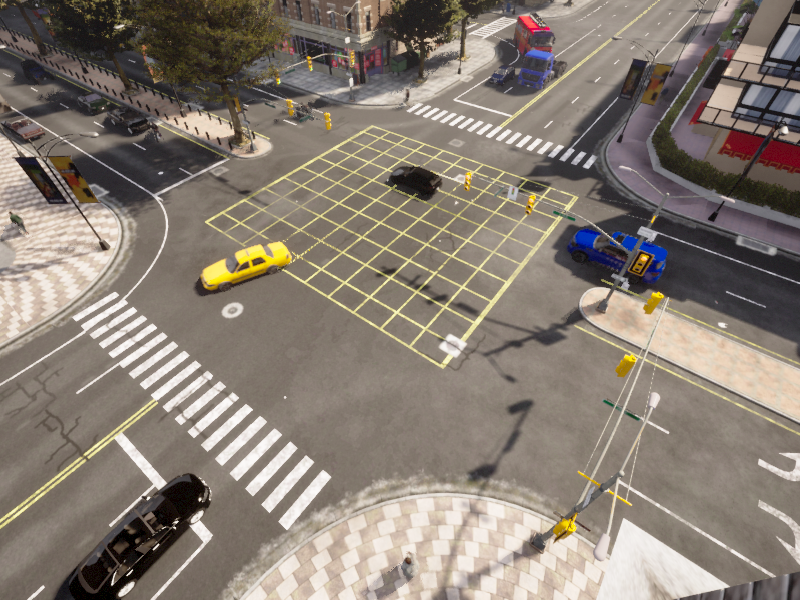vehicle: (557, 212, 671, 291), (187, 232, 291, 299), (384, 154, 442, 198), (100, 99, 157, 138), (144, 118, 171, 145), (290, 97, 315, 121)
